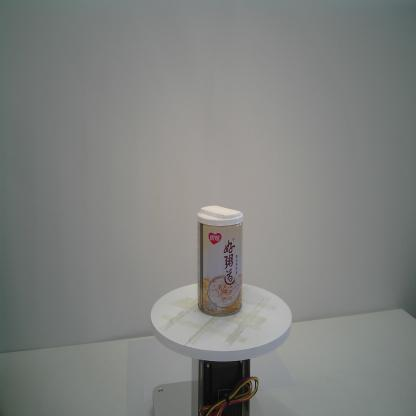Canned Food: (196, 205, 244, 316)
